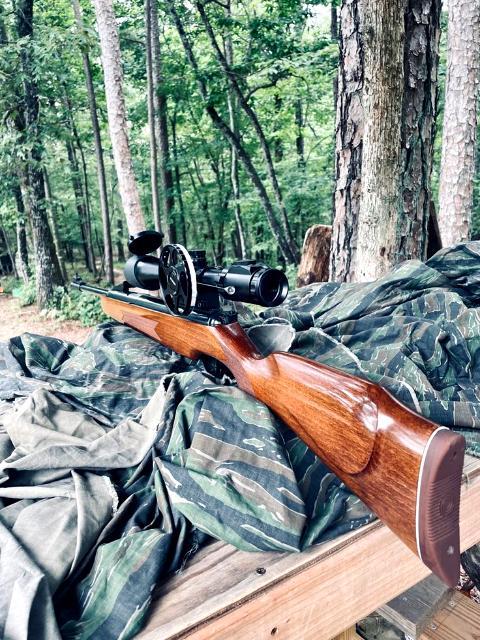rifle: (55, 218, 480, 592)
